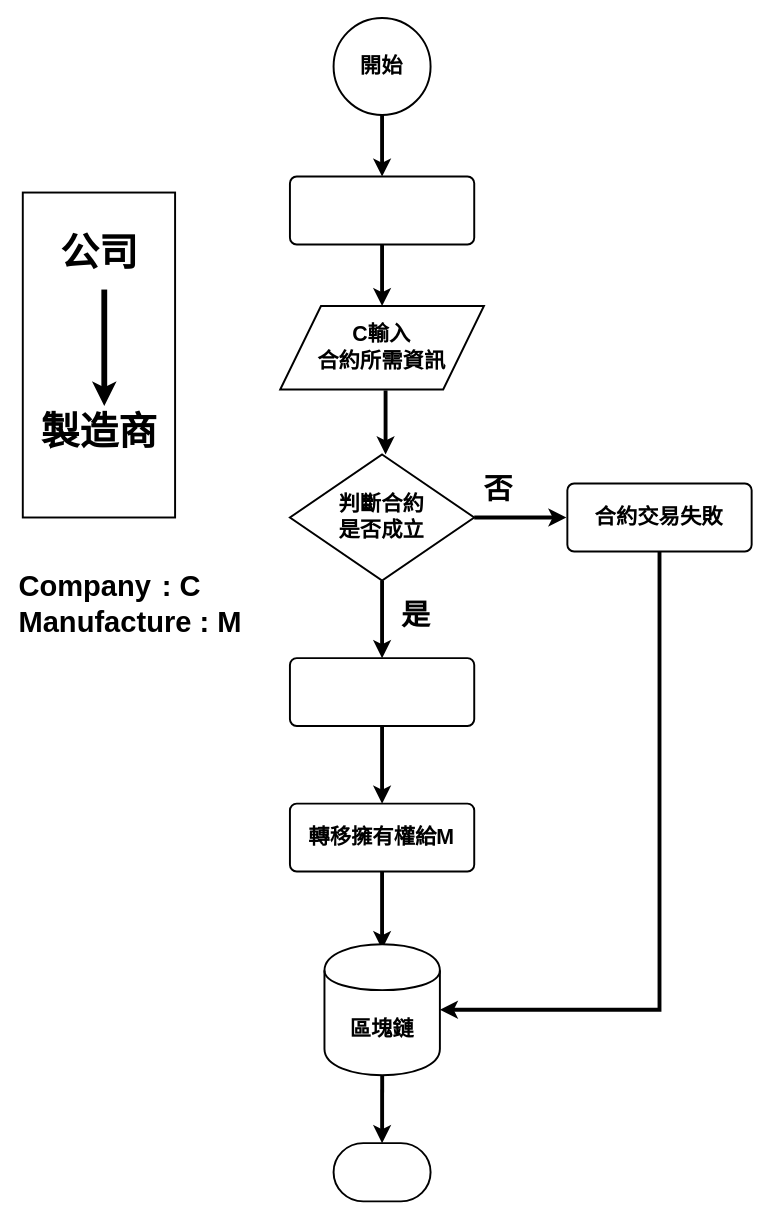
Some shapes in this 769 by 1218 pixel diagram are drawn without their labels. Each missing label, with the centre of its shape:
C 產生QR code: (x=381, y=692)
C產生商品序號 並建立合約: (x=381, y=210)
結束: (x=381, y=1172)
